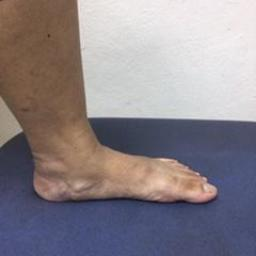Medial View -Left Foot-: (10, 115, 225, 216)
